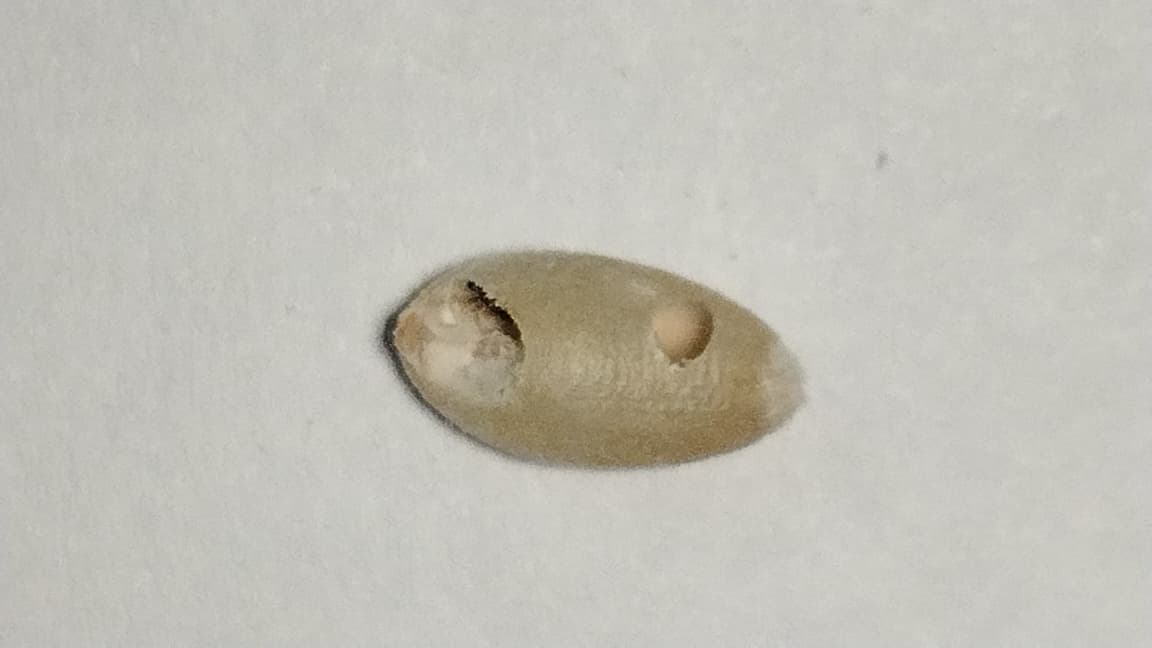damage: (392, 252, 803, 467)
insectdamage: (395, 273, 526, 418), (611, 288, 751, 375)
